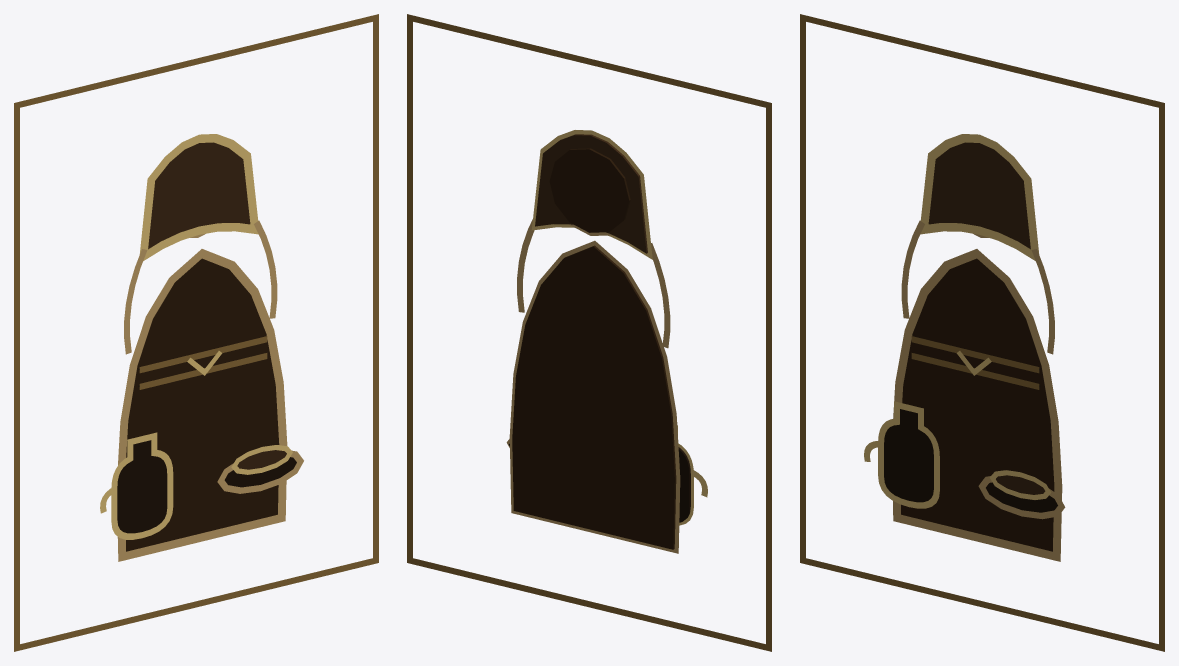
File: npc-anahit.glb
The picture shows the model from 3 angles, left to right: view 1: azimuth 30°, elevation 25°; view 2: azimuth 150°, elevation 25°; view 3: azimuth 330°, elevation 25°; orthographic projection.
Parts seen in each view (by area): view 1: npc-anahit; view 2: npc-anahit; view 3: npc-anahit.
Part boxes in pixels (left/top/right/bottom): npc-anahit: left=14, top=14, right=378, bottom=651; npc-anahit: left=407, top=14, right=771, bottom=651; npc-anahit: left=800, top=14, right=1164, bottom=651.
Bounding box in the file's own units: 1.14 × 1.64 × 0.0754.
